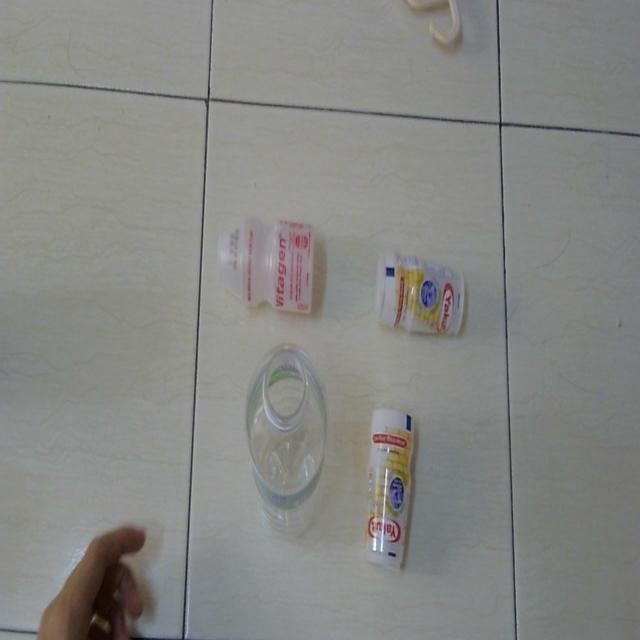plastic_laydown_0rotation: (215, 212, 318, 318), (372, 247, 472, 343)
plastic_laydown_90rotation: (362, 399, 418, 577)
plastic_standrotation: (242, 336, 334, 538)
